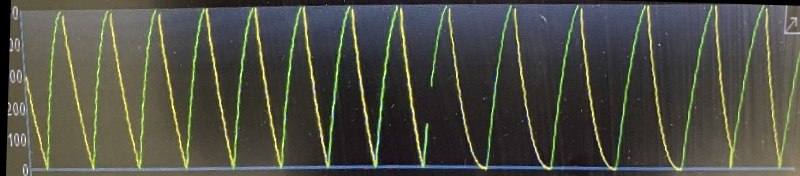normal_volume: (33, 0, 794, 174)
